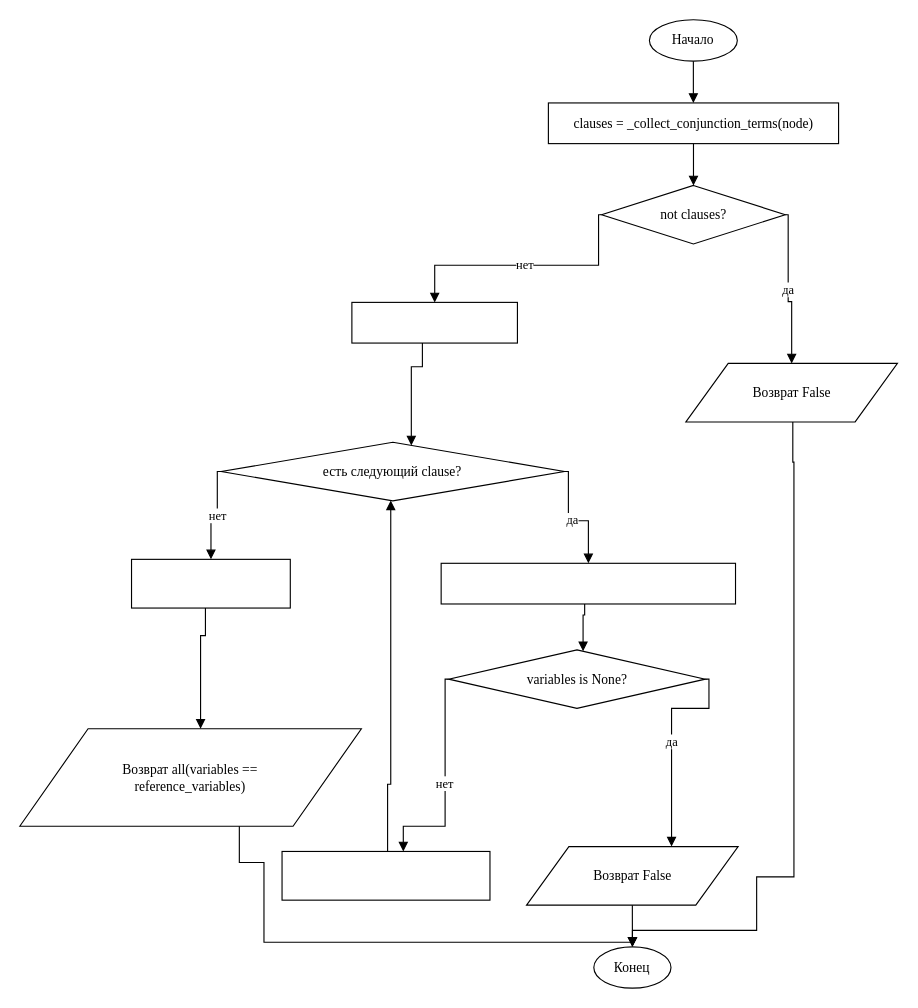
Some shapes in this 918 by 1008 pixel diagram are drawn without their labels. Here are the shapes that lost their labels. From the top down, the centre of each, then its label:
At point (434, 322): "clause_variable_sets = []".
At point (210, 583): "reference_variables = clause_variable_sets[0]".
At point (588, 583): "variables = _extract_clause_variables(clause)".
At point (385, 875): "Добавить frozenset(variables) в clause_variable_sets".
